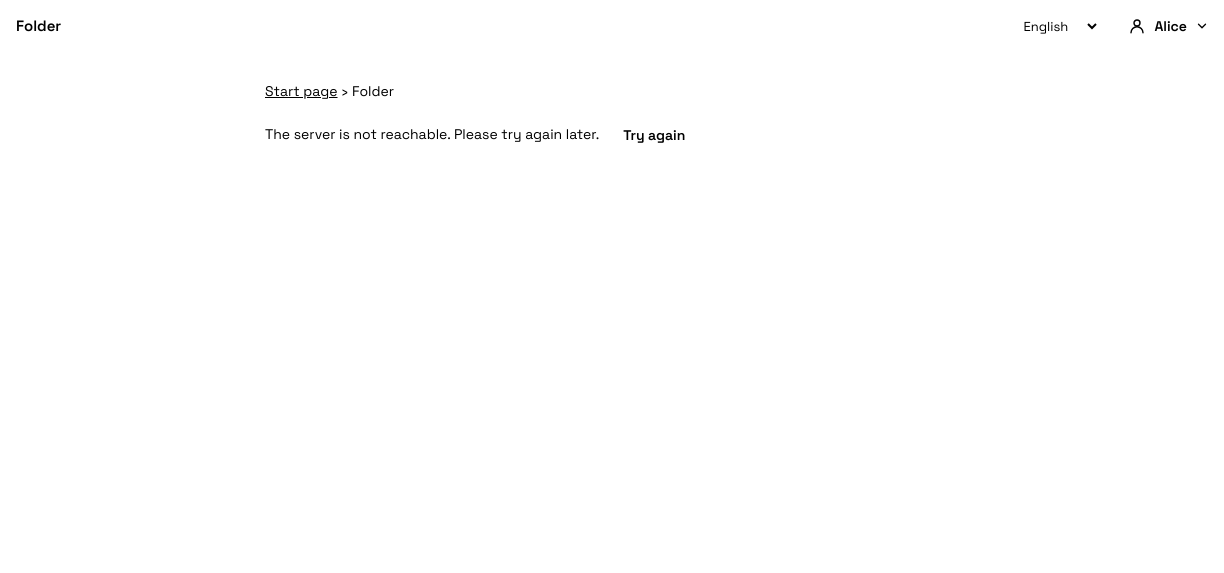
Test: folder page › offers Try again when the folder can't be loaded
Expected: the message shows "The server is not reachable.", x1=265 y1=125 x2=599 y2=143
Click the button "Try again": (654, 134) x1=611 y1=126 x2=697 y2=144
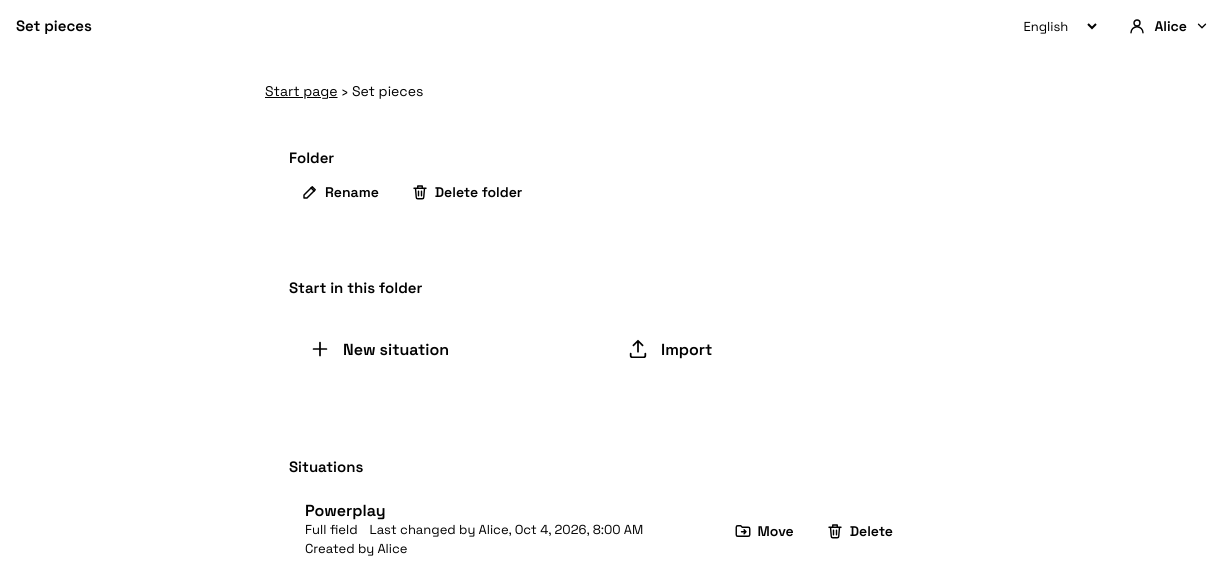
Expected: the heading "Set pieces" is shown, x1=16 y1=16 x2=92 y2=35
